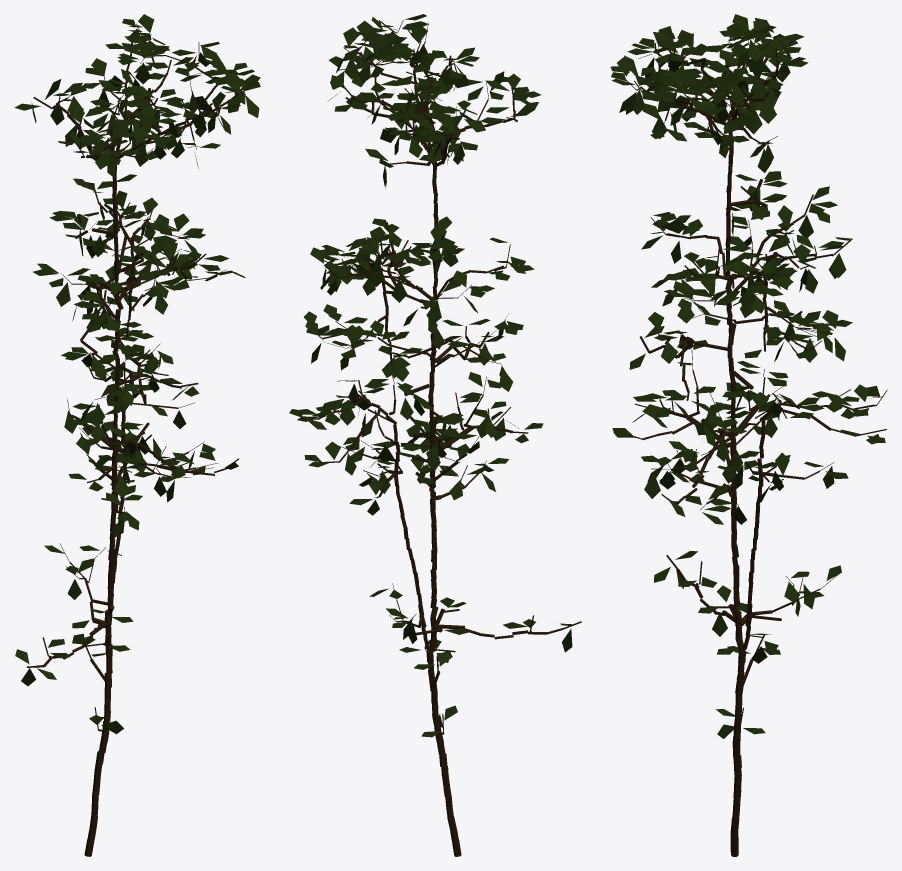
The model's file is tree_310.obj.
The picture shows the model from 3 angles, left to right: view 1: azimuth 30°, elevation 25°; view 2: azimuth 150°, elevation 25°; view 3: azimuth 270°, elevation 25°; orthographic projection. The views are drawn at different scales.
Visible parts, largest first — view 1: Leaves, TrunkAndBranches; view 2: Leaves, TrunkAndBranches; view 3: Leaves, TrunkAndBranches.
Part boxes in pixels (left/top/right/bottom): Leaves: left=14, top=14, right=260, bottom=734; TrunkAndBranches: left=26, top=23, right=254, bottom=856; Leaves: left=289, top=14, right=572, bottom=737; TrunkAndBranches: left=300, top=20, right=581, bottom=856; Leaves: left=610, top=14, right=885, bottom=738; TrunkAndBranches: left=625, top=33, right=887, bottom=856.
Bounding box in the file's own units: 2.97 × 9.89 × 2.87.
